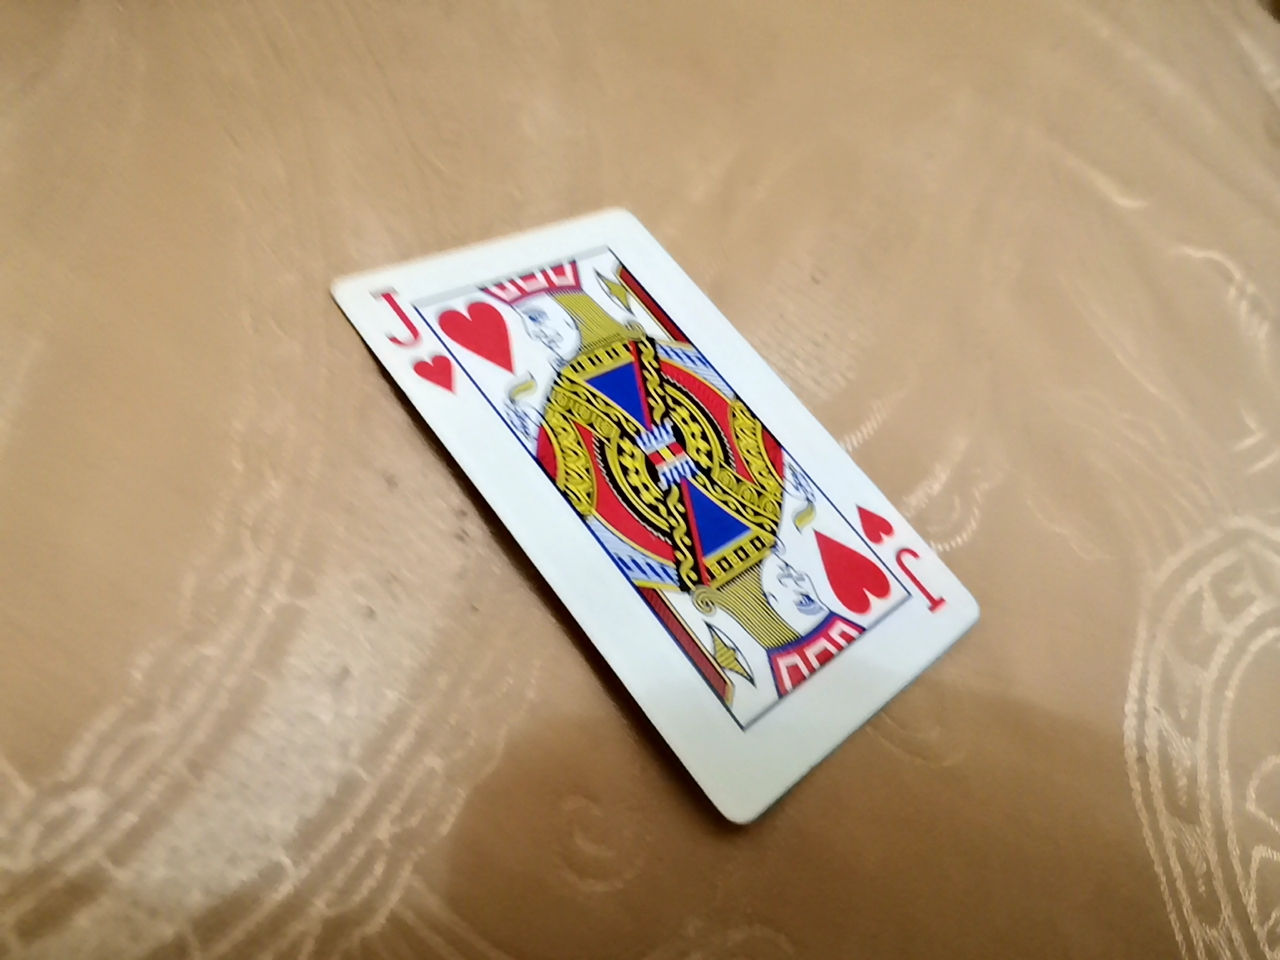hx j: (324, 156, 1002, 775)
